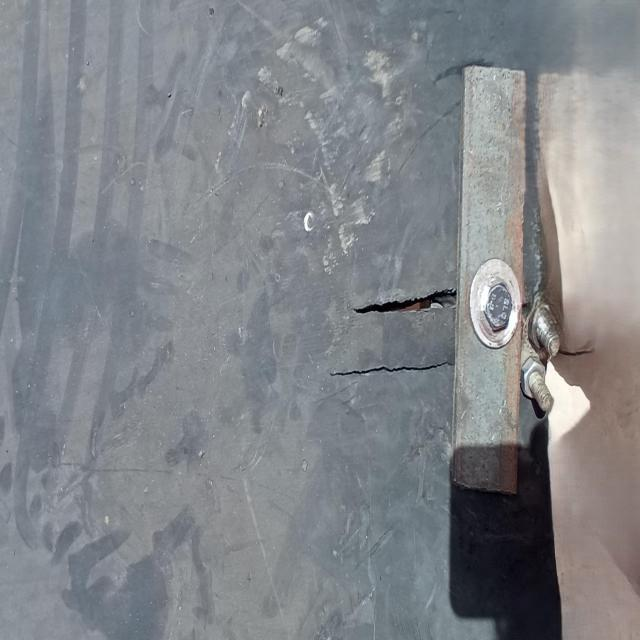Tear: (320, 353, 460, 384), (346, 284, 463, 320)
